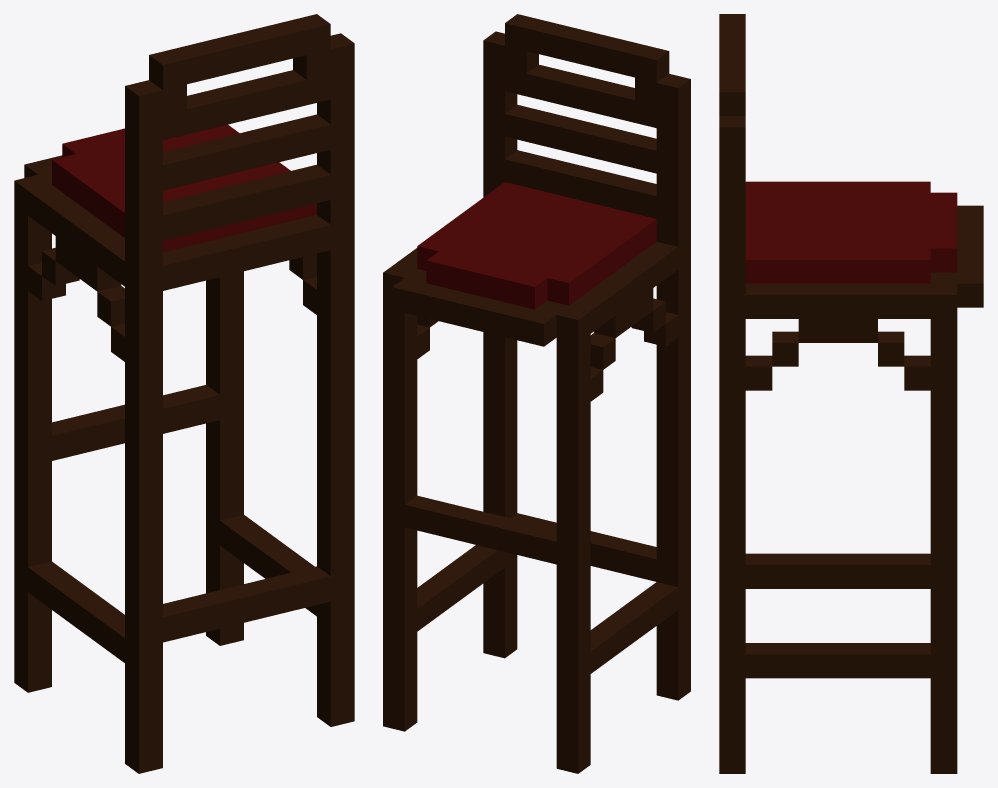
File: Level1-3.obj
The picture shows the model from 3 angles, left to right: view 1: azimuth 30°, elevation 25°; view 2: azimuth 150°, elevation 25°; view 3: azimuth 270°, elevation 25°; orthographic projection. The views are drawn at different scales.
Parts seen in each view (by area): view 1: Level1-3; view 2: Level1-3; view 3: Level1-3.
Boxes of the visible parts, box(x1,y1,x2,y2) form: Level1-3: box(14, 14, 354, 773); Level1-3: box(383, 14, 690, 773); Level1-3: box(719, 14, 983, 773).
Bounding box in the file's own units: 9 × 28 × 10.
Materials: 1 (1 with a texture image).
